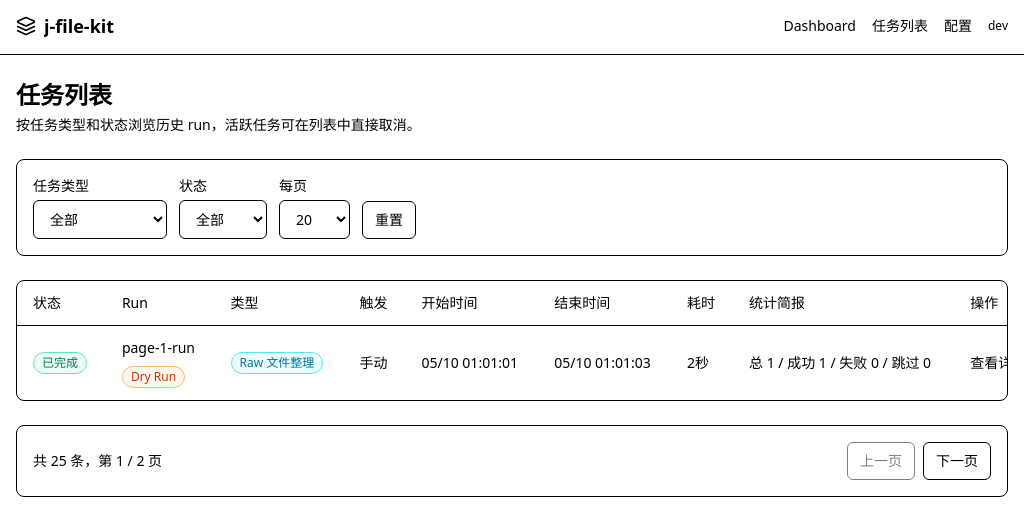
it: Tasks list page › changes task list pages
Expected: the text "page-1-run" is shown, [122,338,198,358]
Click the button "下一页". click: (957,461)
box: [923,442,991,480]
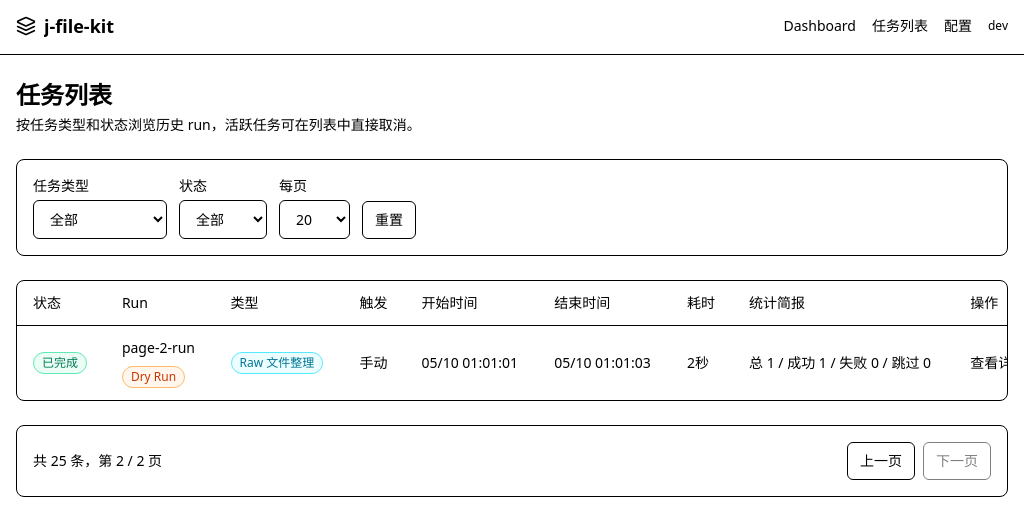
Result: the text "page-2-run" is shown at [122,338,198,358]
